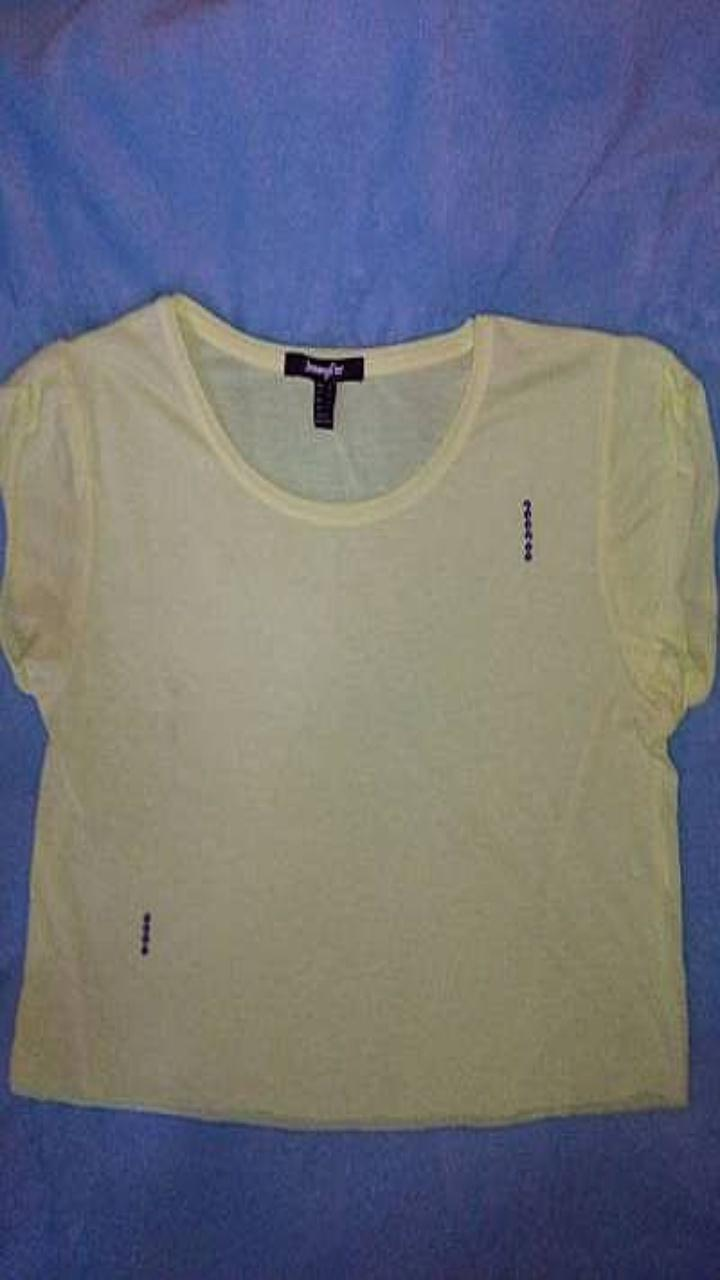T-Shirt: (0, 293, 717, 1127)
